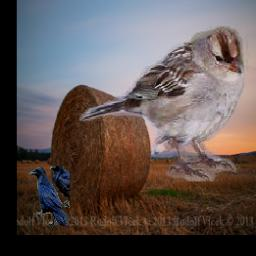Crow: (28, 167, 70, 229)
Sparrow: (80, 26, 250, 181)
